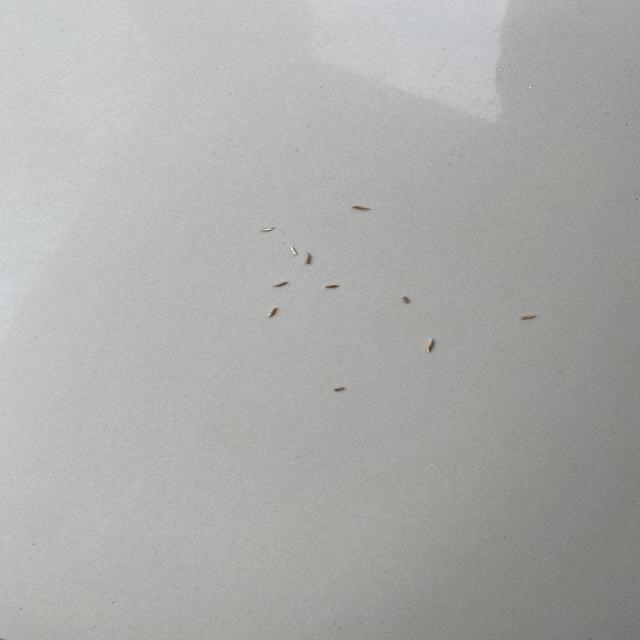Wereng: (514, 311, 540, 323), (426, 336, 441, 356), (264, 304, 282, 320), (322, 281, 345, 291), (258, 223, 277, 235), (349, 203, 372, 212), (271, 279, 293, 288), (399, 294, 414, 306), (304, 250, 315, 266), (288, 244, 300, 257), (334, 384, 350, 393)
